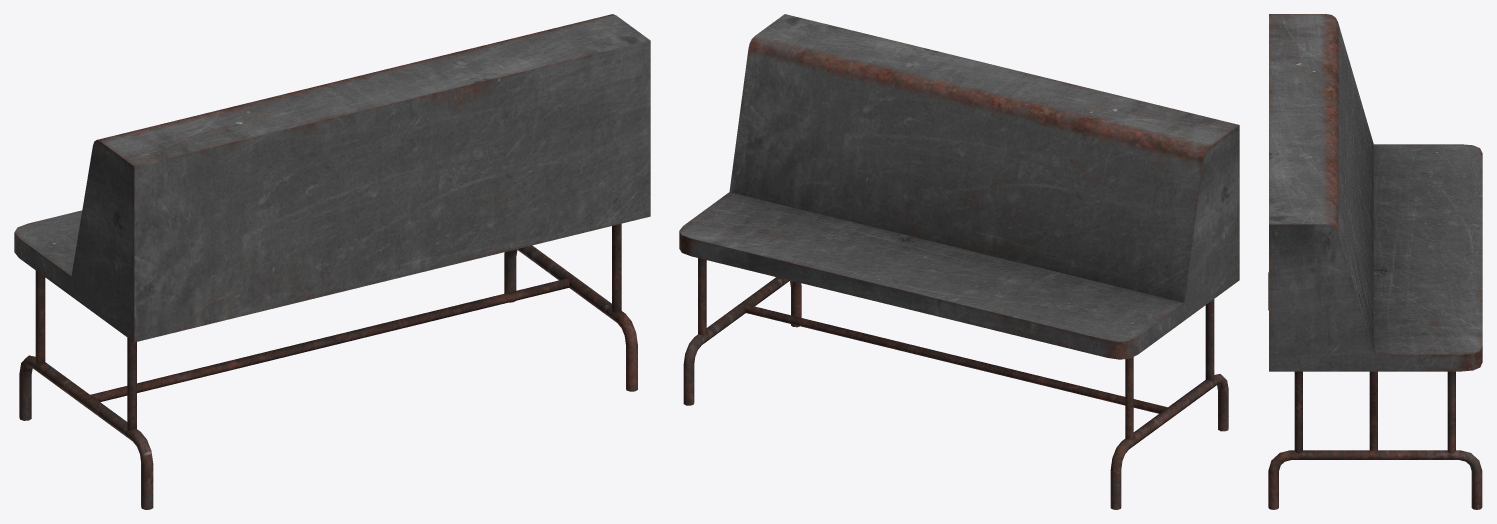
File: MountedDesk.FBX
3 views of the same model, side by side, from view 1: azimuth 30°, elevation 25°; view 2: azimuth 150°, elevation 25°; view 3: azimuth 270°, elevation 25° (orthographic). The views are drawn at different scales.
Visible parts, largest first — view 1: MountedDesk; view 2: MountedDesk; view 3: MountedDesk.
Boxes of the visible parts, bbox=[...] form: MountedDesk: bbox=[14, 14, 650, 509]; MountedDesk: bbox=[679, 14, 1239, 509]; MountedDesk: bbox=[1268, 14, 1482, 509].
Size of the model in its own units: 199 by 128 by 85.6.
